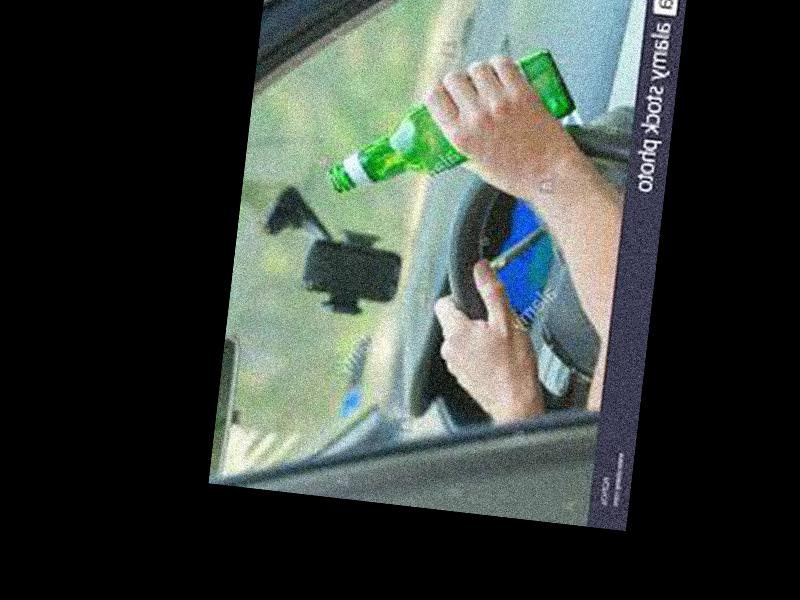Beer: (330, 32, 583, 216)
